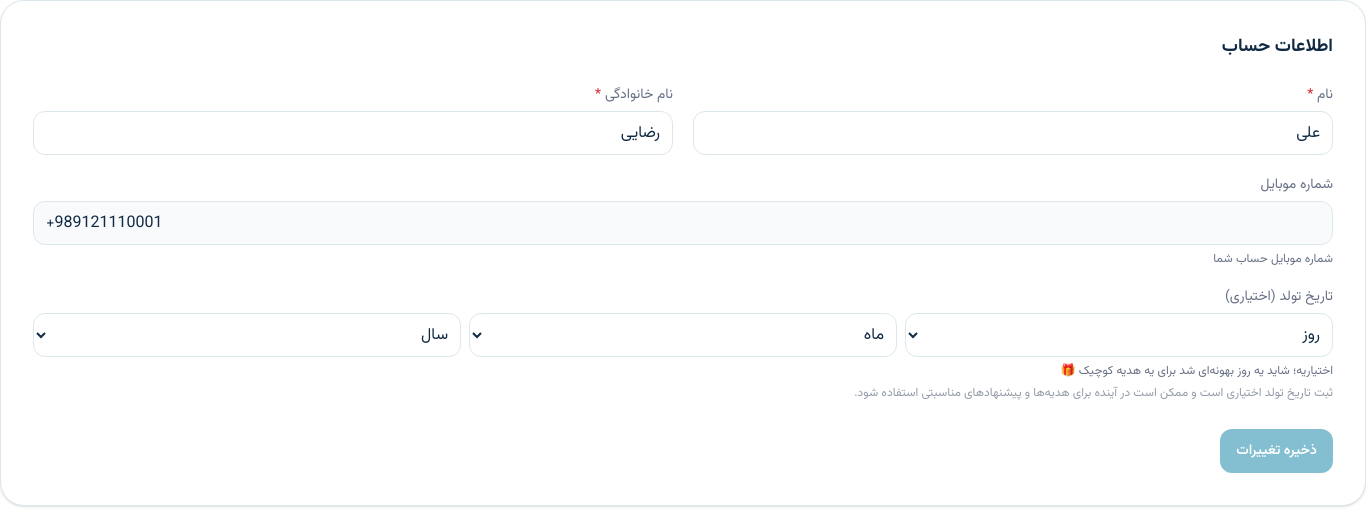
Test: ProfileSection › cancel reverts unsaved changes
Type "ی" into the field labelled "نام". click: (1013, 133)
box: x1=693 y1=111 x2=1333 y2=155
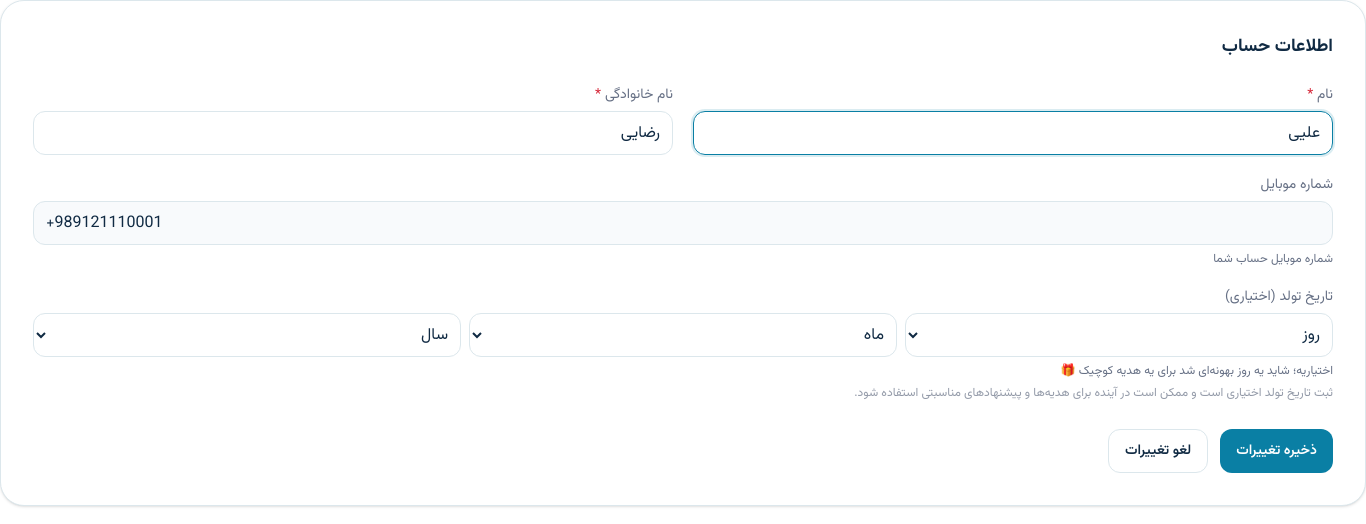
Click the button "لغو تغییرات". click: (1158, 451)
box: x1=1108 y1=429 x2=1208 y2=473
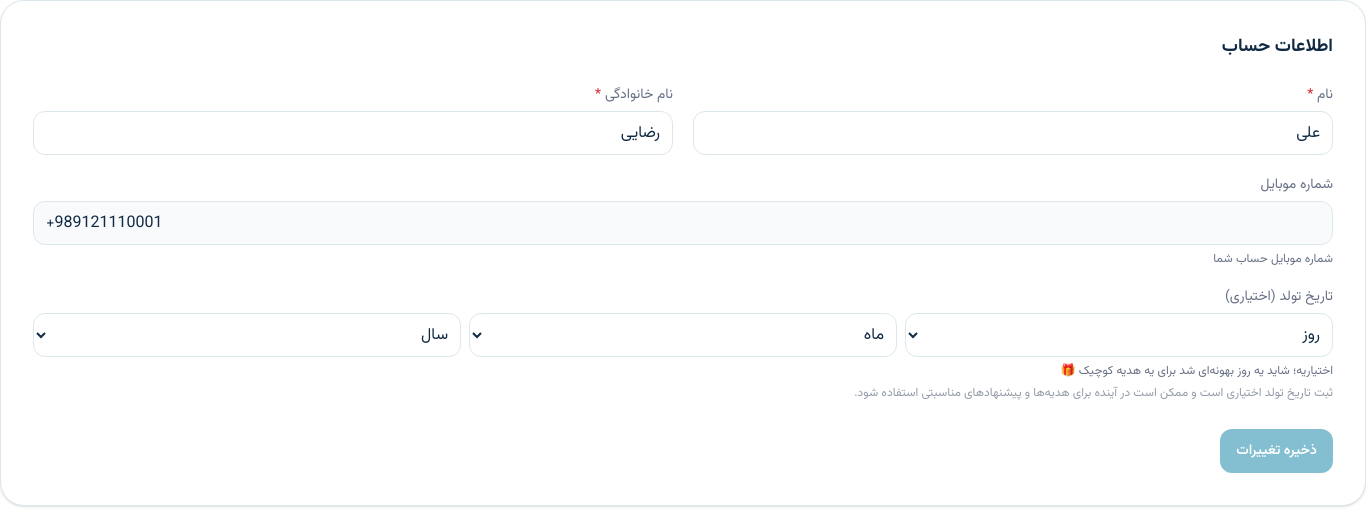
Now the field labelled "نام" holds "علی", box x1=693 y1=111 x2=1333 y2=155
Now the button "ذخیره تغییرات" is disabled, box x1=1220 y1=429 x2=1333 y2=473
